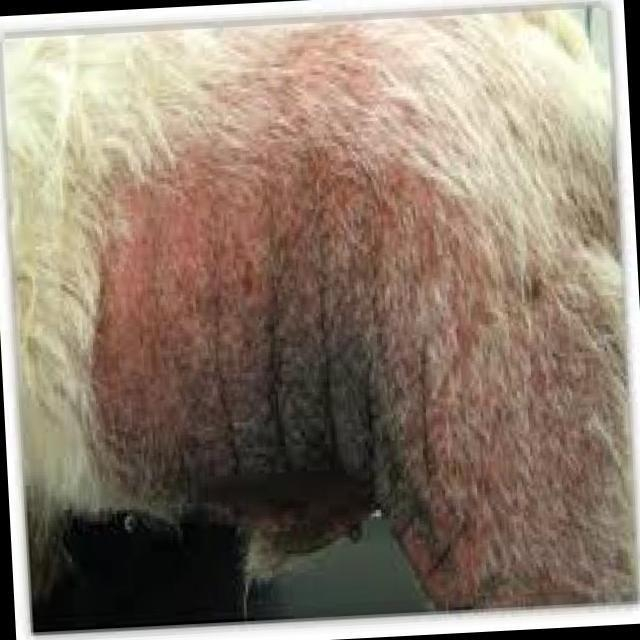fungal infection: (123, 187, 504, 490), (394, 492, 547, 620), (239, 34, 371, 160), (519, 265, 558, 301)
